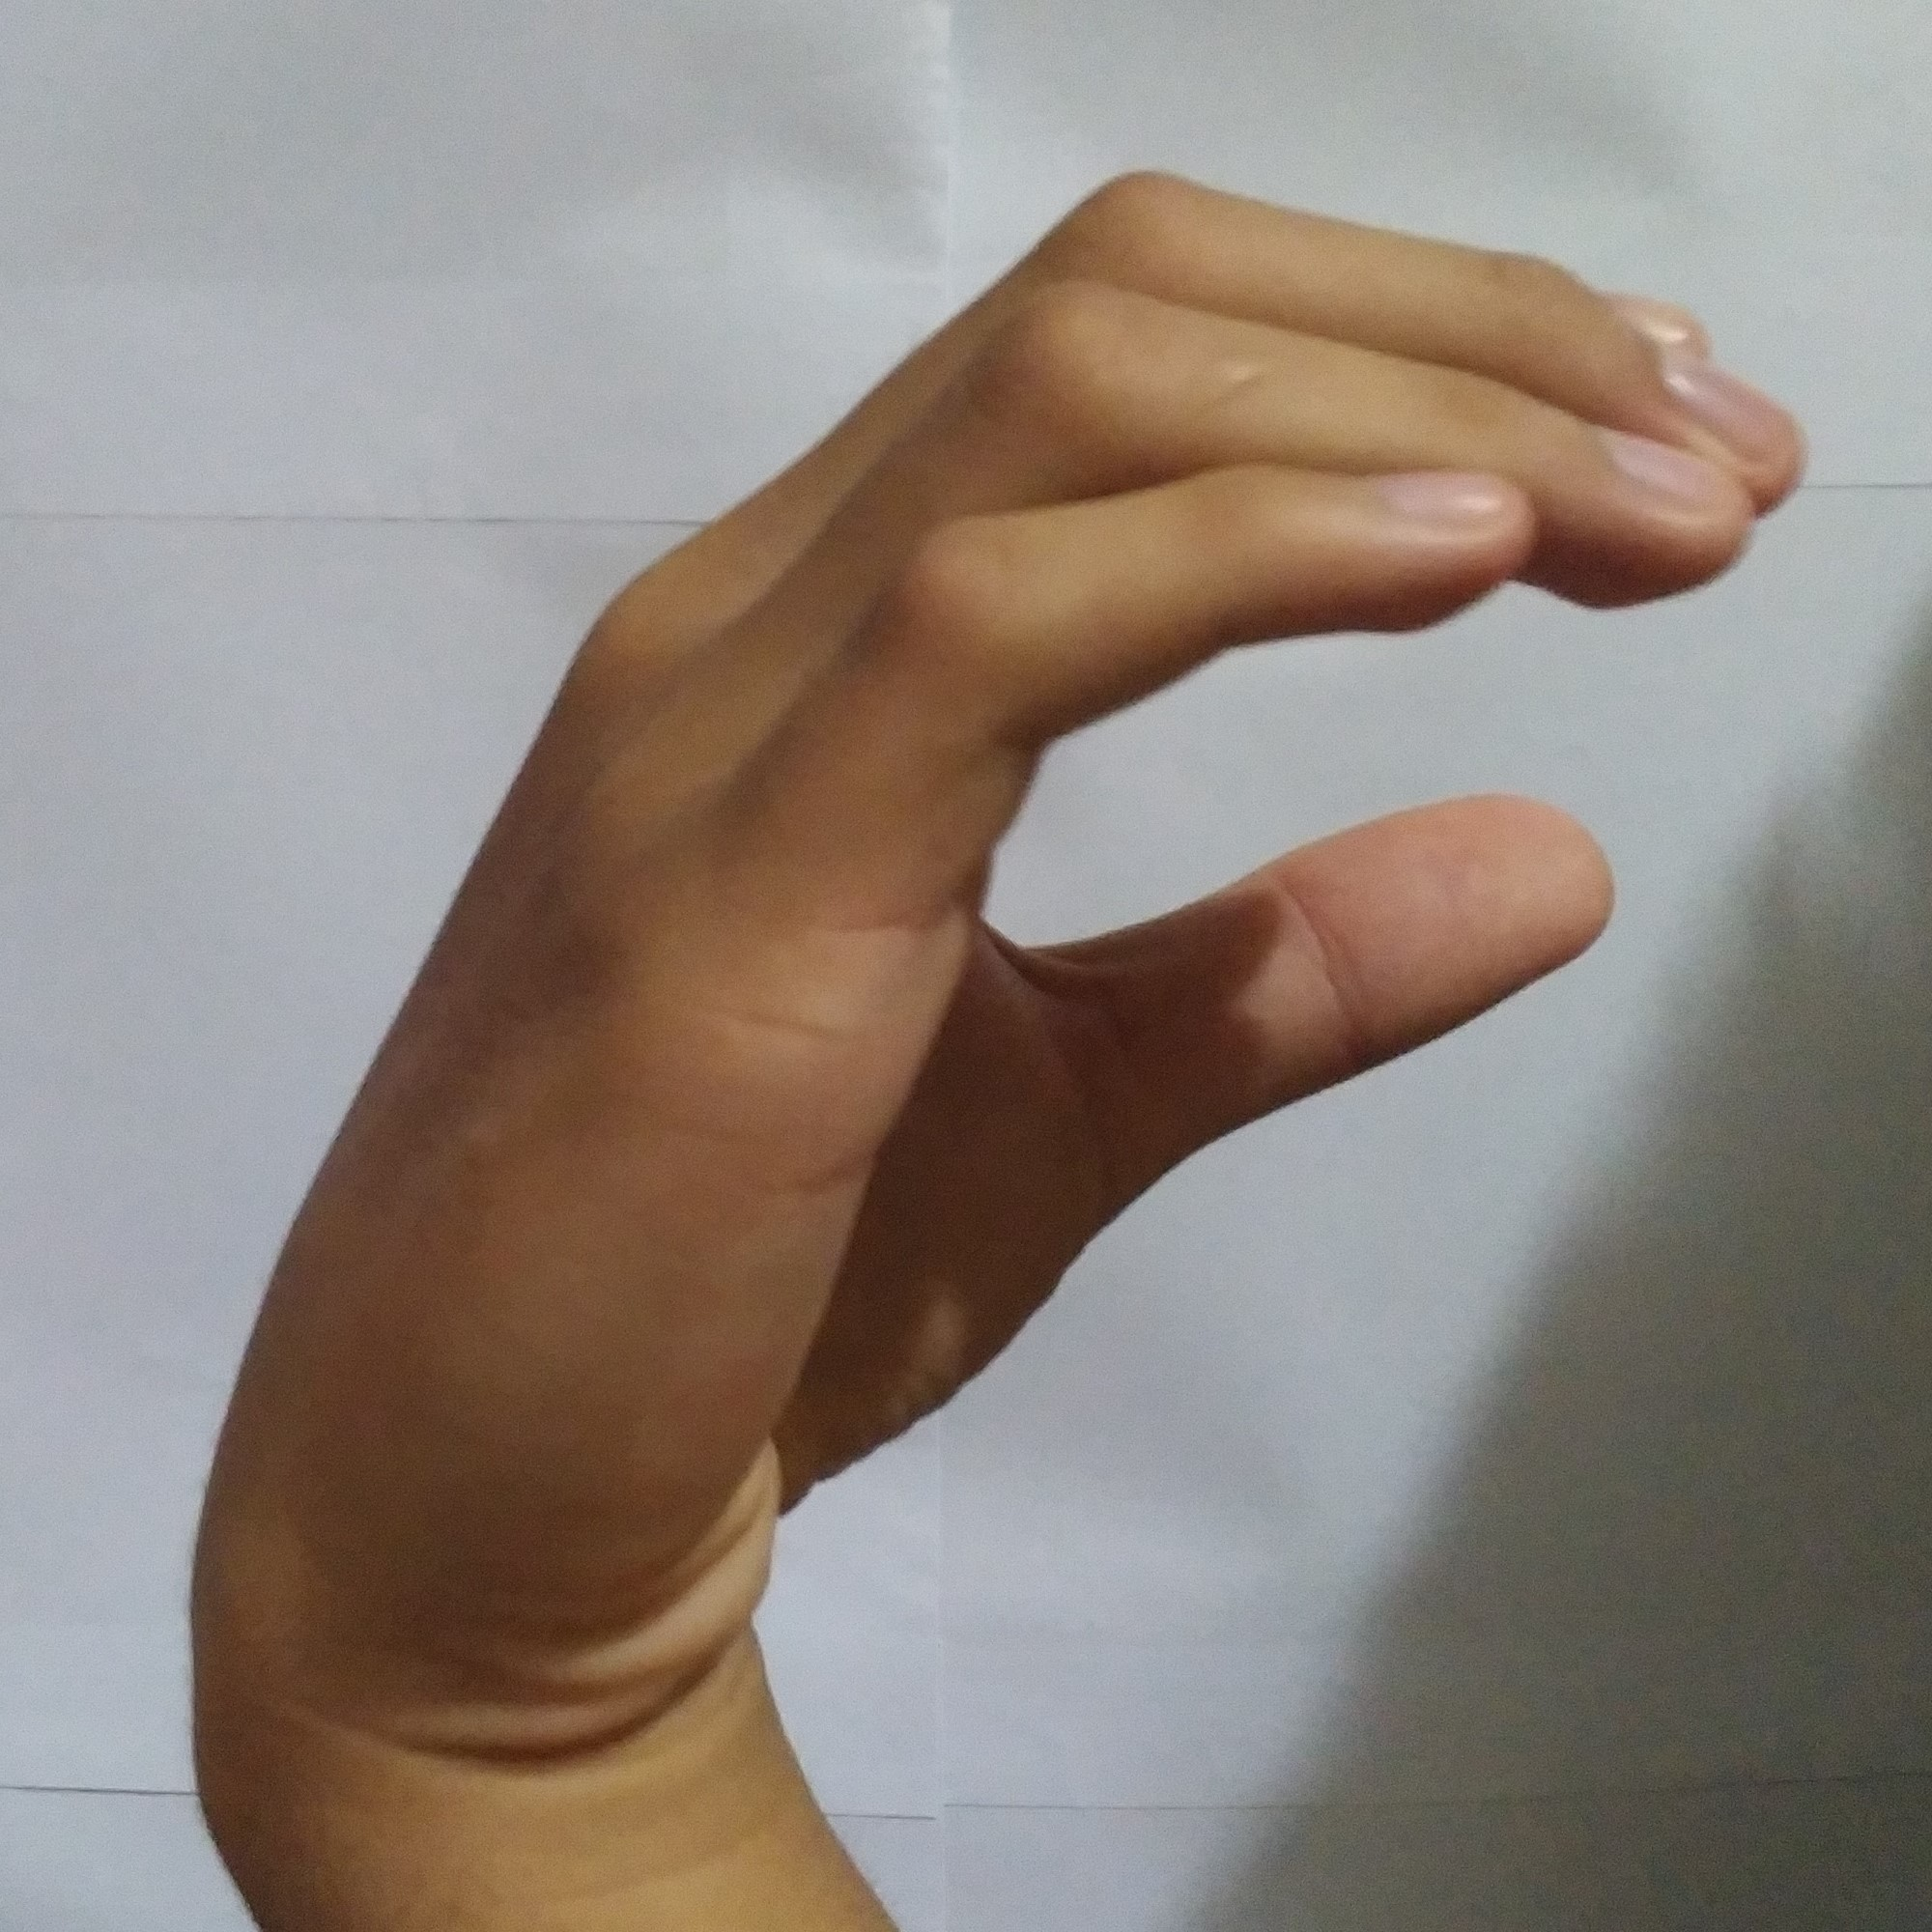C: (219, 136, 1826, 1635)
